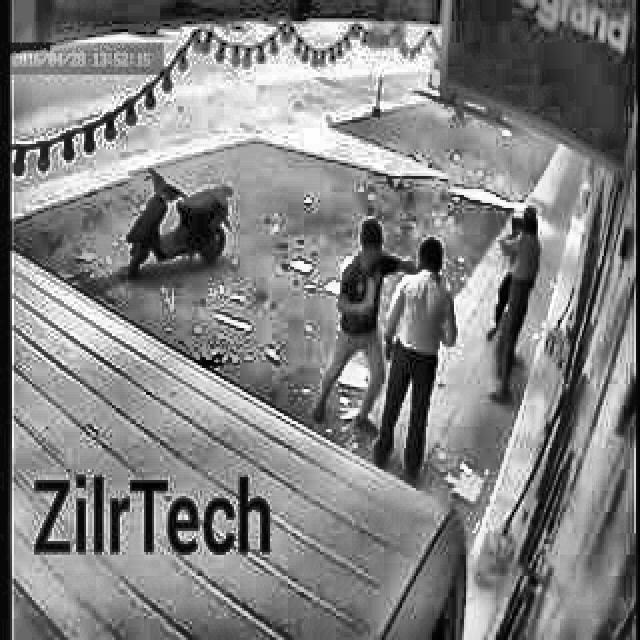robbery: (315, 219, 459, 477), (482, 207, 539, 417)
